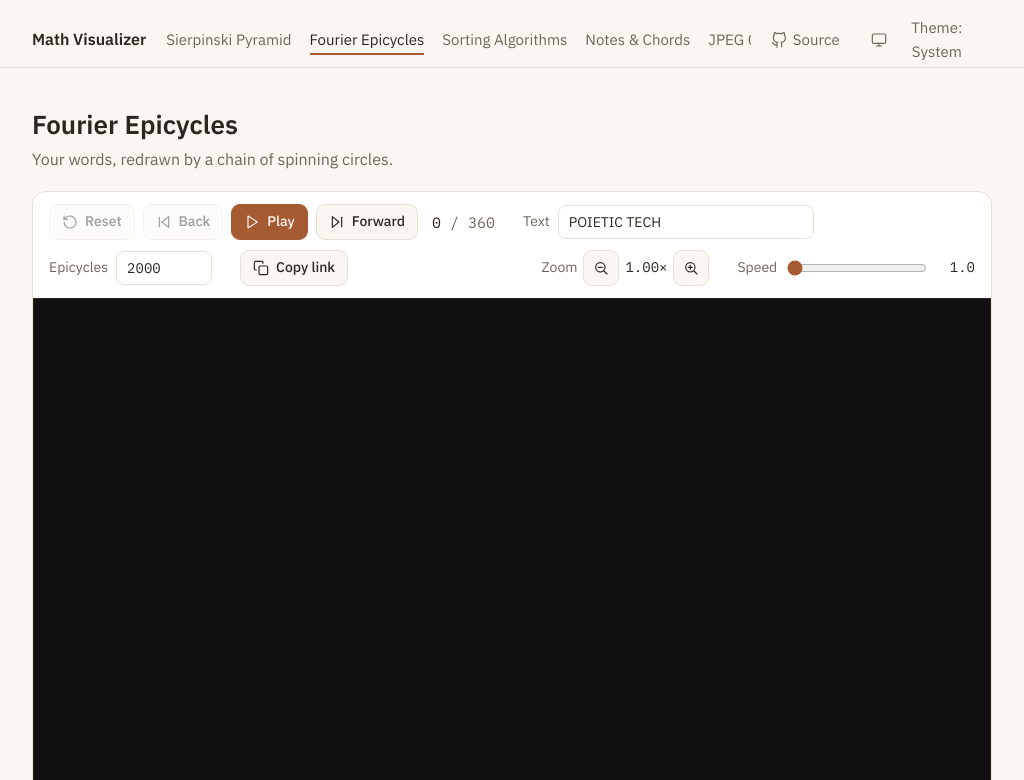
Test case: FourierLab.svelte › shows a hint (and pushes nothing) when the text is cleared
Expected: the text "Nothing to draw" is not shown
Clear the field named "Text to trace". click: (686, 222)
box: x1=558 y1=205 x2=814 y2=239
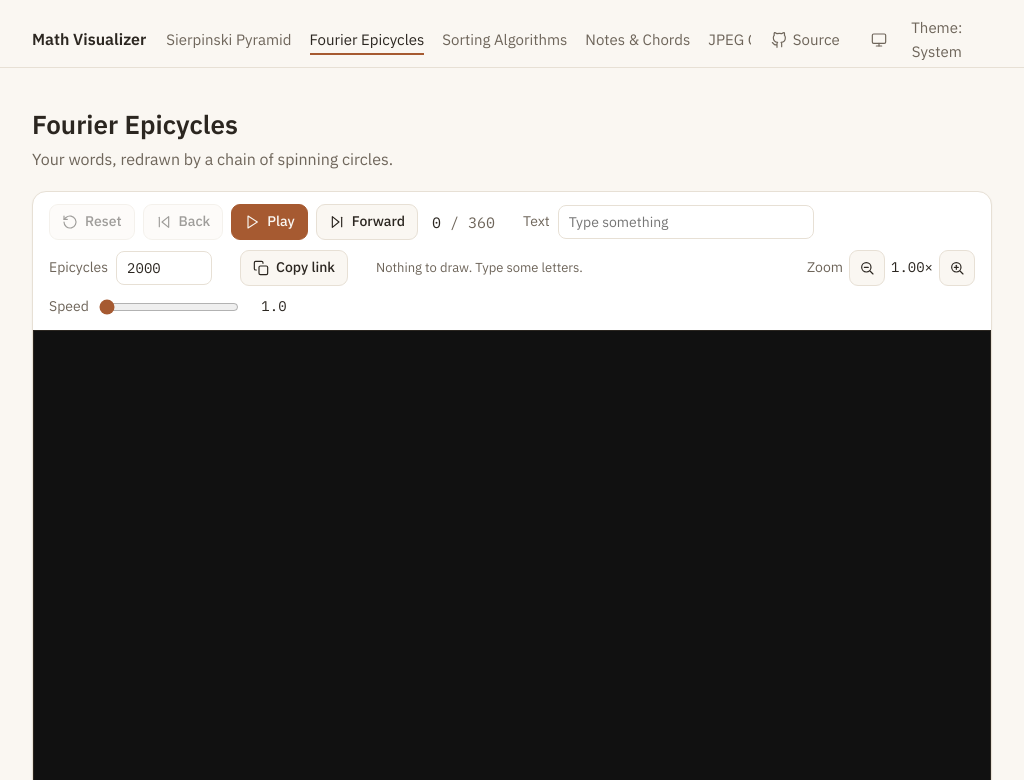
Now the text "Nothing to draw. Type some letters." is shown, box x1=376 y1=258 x2=583 y2=278
